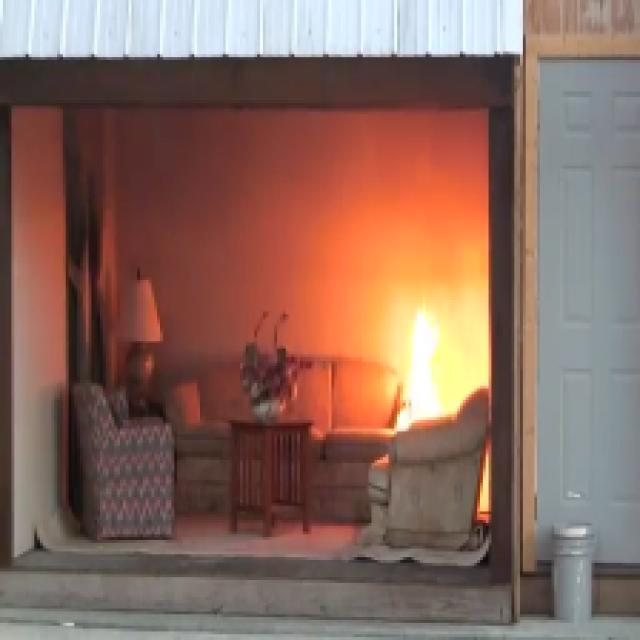fire: (389, 308, 460, 417)
